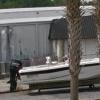Boat: (14, 52, 100, 98)
